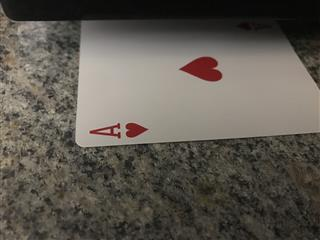AceOfHearts: (74, 18, 320, 148)
